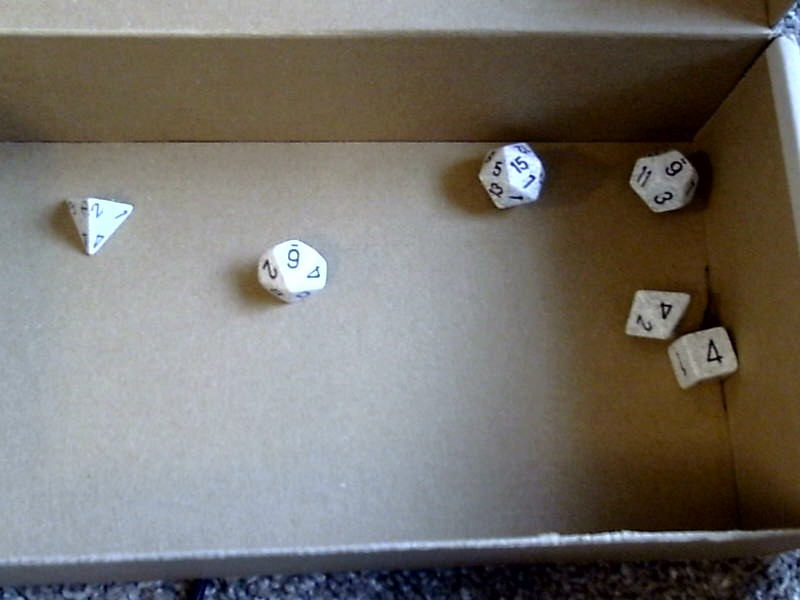d10 6: (249, 230, 336, 315)
d12 6: (624, 141, 703, 222)
d20 15: (476, 135, 547, 218)
d4 2: (60, 187, 134, 258)
d6 4: (666, 324, 742, 390)
d8 4: (623, 275, 691, 339)
